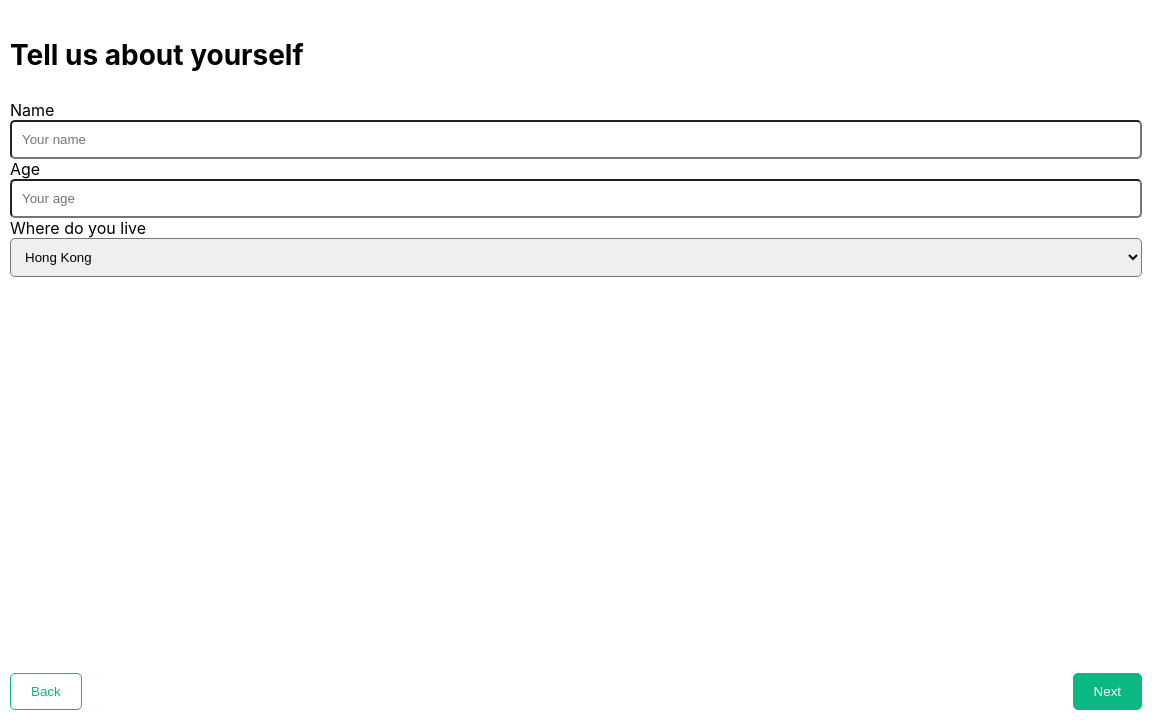
Test: Step 2 page structure test cases
The image size is (1152, 720).
expect the text "Tell us about yourself" is shown: met, box [10, 38, 304, 72]
expect the text "Name" is shown: met, box [10, 100, 54, 120]
Type "Faiz" into the field with placeholder "Your name".
click(576, 140); type("Faiz")  # box [10, 120, 1142, 159]
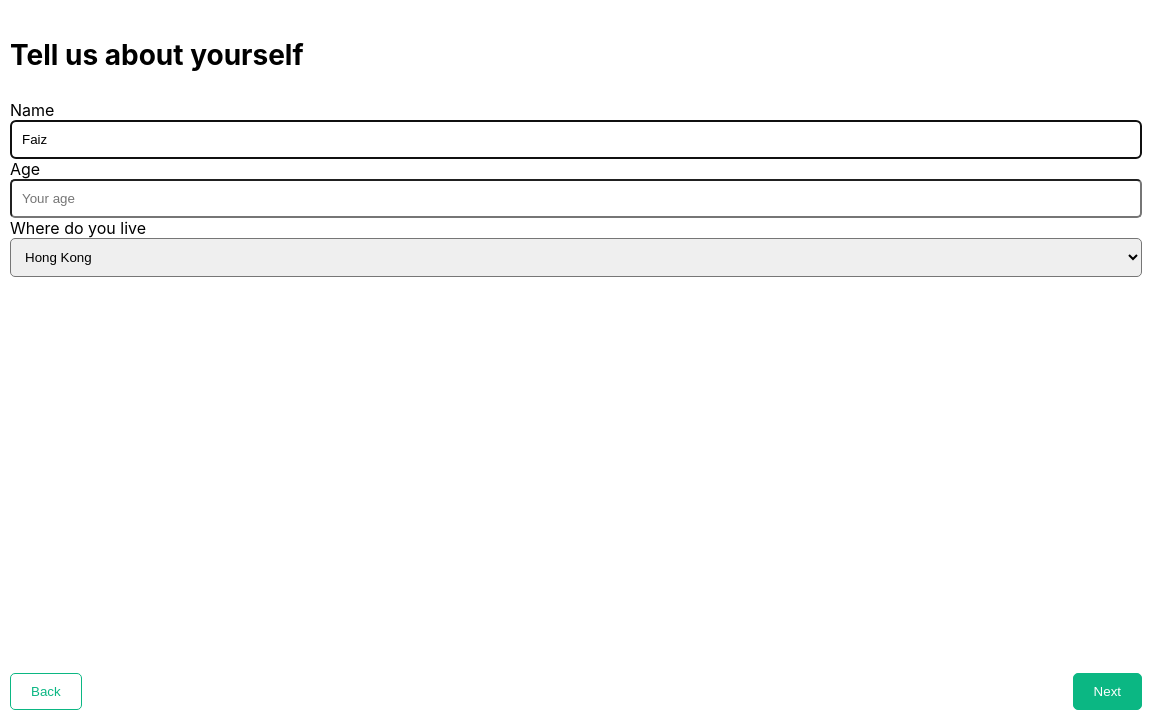
Type "10" into the number field with placeholder "Your age".
click(576, 198); type("10")  # box [10, 179, 1142, 218]
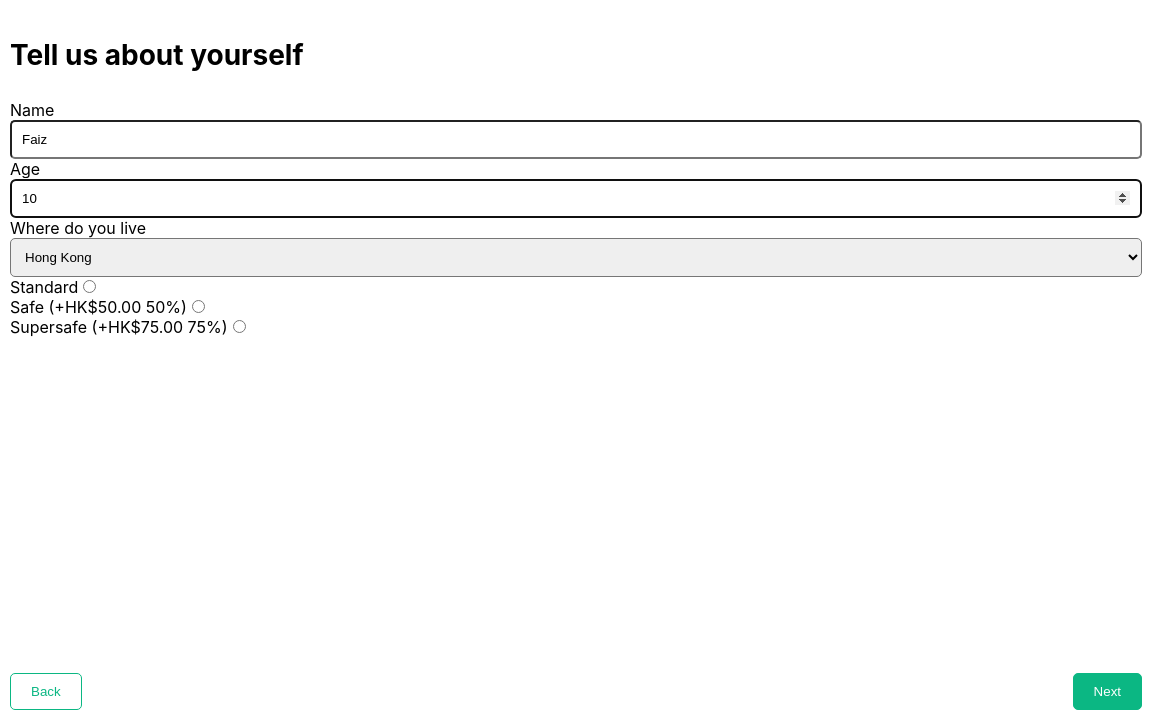
Select "USA" in the dropdown at (576, 258), box [10, 238, 1142, 277]
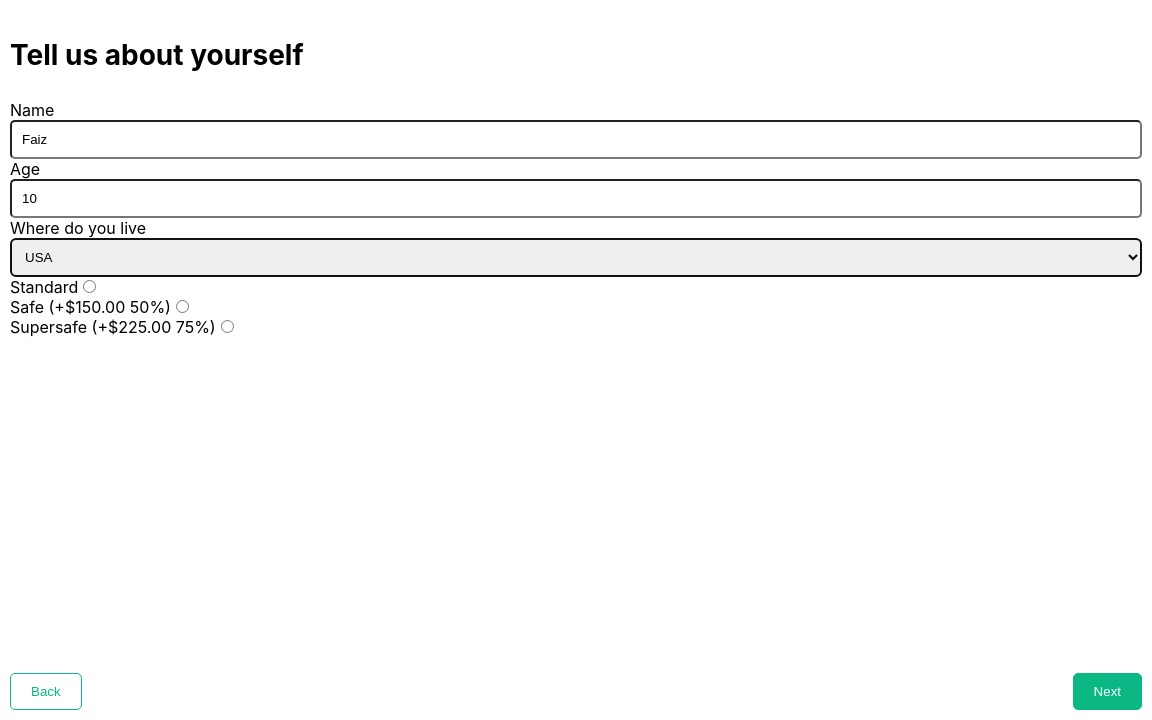
expect the radio button labelled "Standard" is shown: met
Click the radio button labelled "Standard".
click(90, 286)  # box [83, 280, 96, 293]
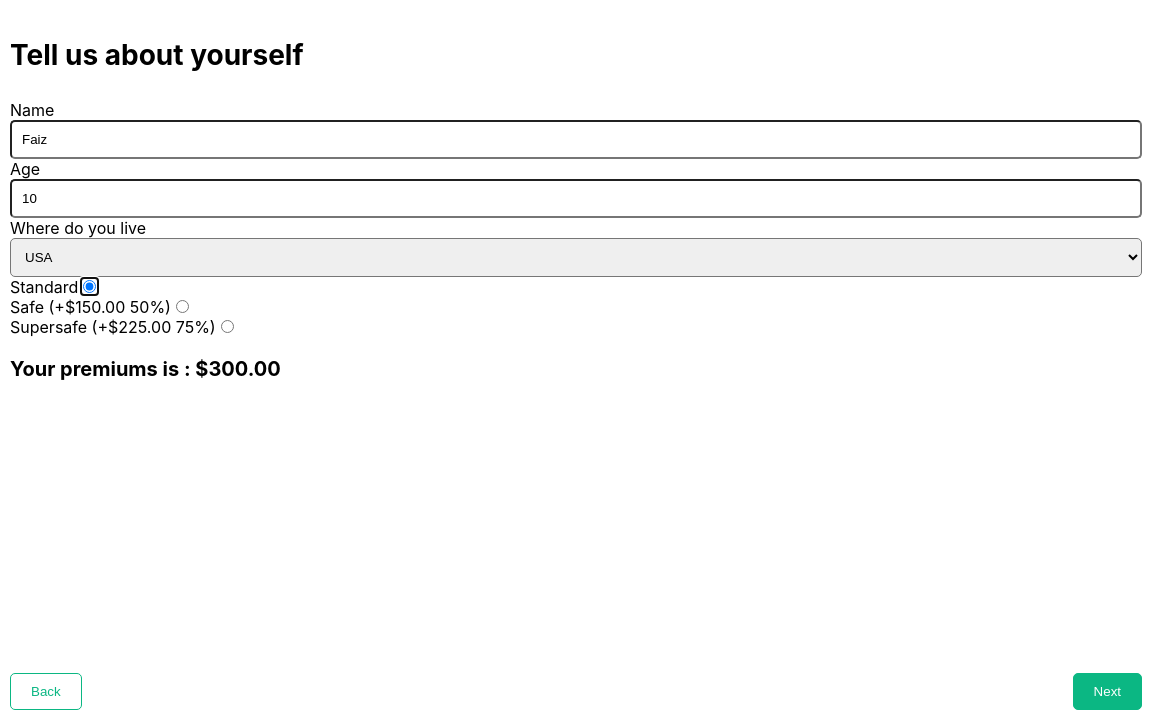
expect the text "Your premiums is : $300.00" is shown: met, box [10, 357, 281, 381]
